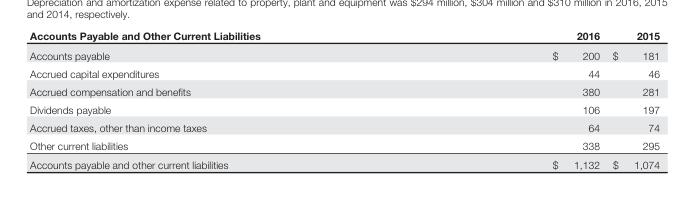table: (29, 29, 658, 170)
table column: (29, 29, 405, 170), (405, 29, 605, 170), (605, 29, 658, 170)
table column header: (29, 29, 658, 44)
table row: (29, 44, 658, 63), (29, 117, 658, 136), (29, 63, 658, 81), (29, 81, 658, 99), (29, 99, 658, 117), (29, 136, 658, 154), (29, 154, 658, 170), (29, 29, 658, 44)
